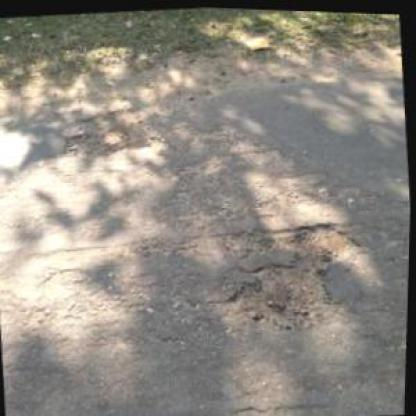pothole: (226, 252, 338, 334), (54, 98, 171, 162), (288, 214, 365, 264)
